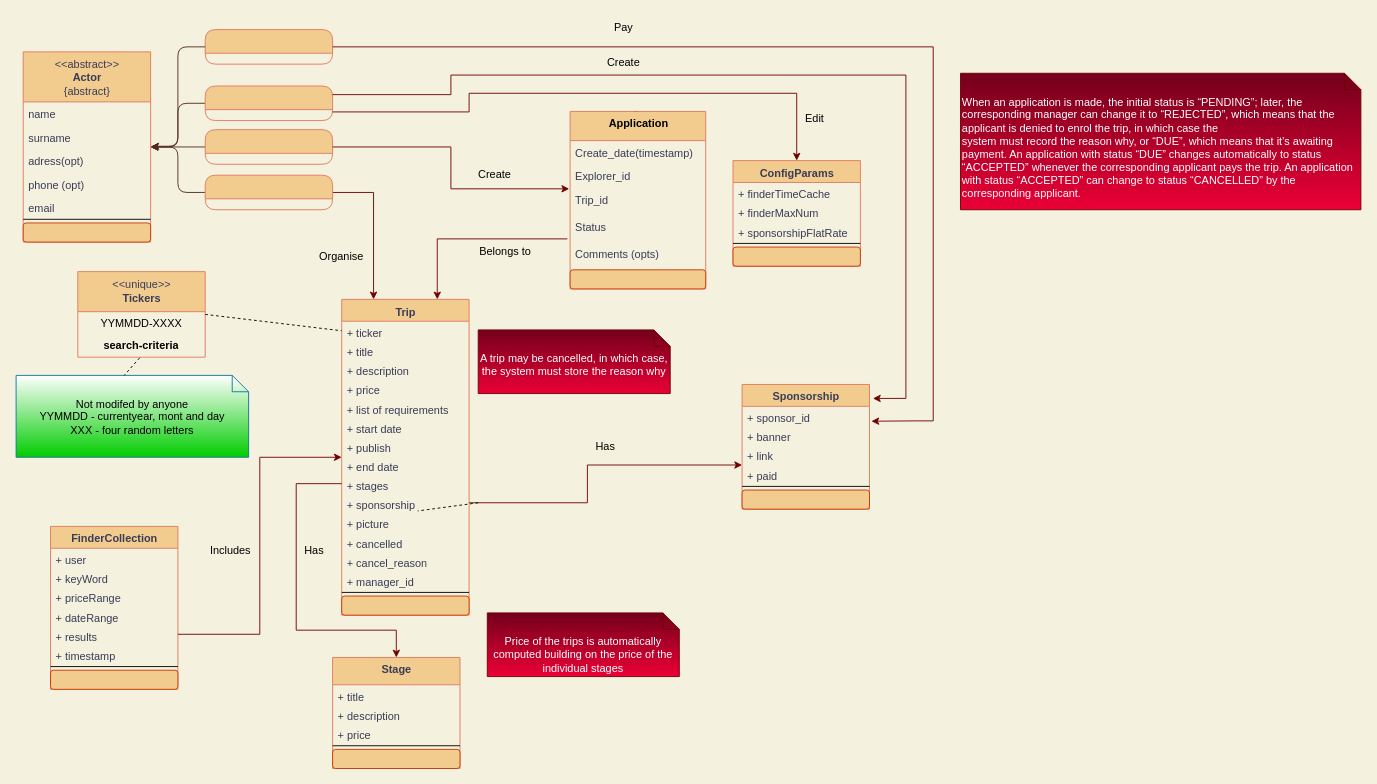
Image size: 1377x784. Some labels were removed from this diagram. The shapes that lost their labels are listed below. From the top down, each one's centre as x and y in pixels, then its label:
the point at 268,46: Sponsor
the point at 268,103: Admin
the point at 268,146: Explorer
the point at 268,192: Manager
